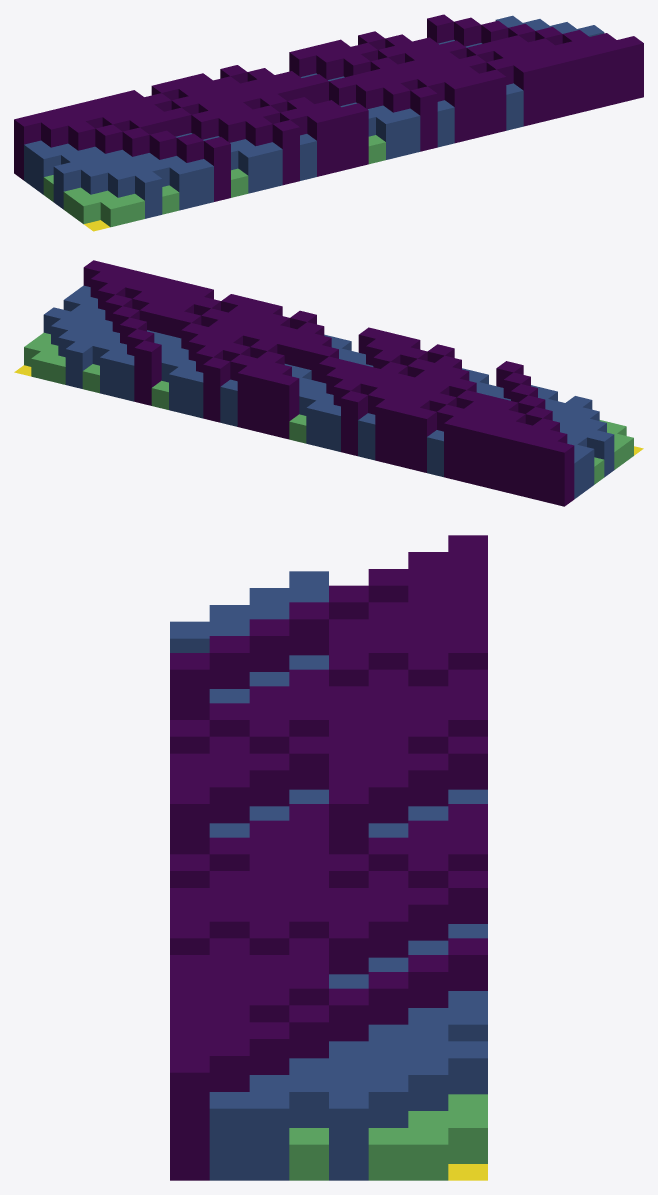
3 renders of one model, top to bottom at view 1: azimuth 30°, elevation 25°; view 2: azimuth 150°, elevation 25°; view 3: azimuth 270°, elevation 25°, orthographic. The views are drawn at different scales.
Visible parts, largest first — view 1: Object(20,8)[length_3], Object(12,8)[length_3], Object(14,8)[length_3], Object(22,8)[length_3], Object(26,8)[length_3], Object(8,8)[length_3], Object(15,8)[length_3], Object(24,8)[length_3], Object(29,8)[length_3], Object(27,8)[length_3], Object(31,8)[length_3], Object(32,8)[length_3] (+64 smaller); view 2: Object(1,1)[length_3], Object(25,1)[length_3], Object(17,1)[length_3], Object(9,1)[length_3], Object(21,1)[length_3], Object(13,1)[length_3], Object(10,1)[length_3], Object(6,1)[length_3], Object(11,1)[length_3], Object(5,1)[length_3], Object(7,1)[length_3], Object(2,1)[length_3] (+54 smaller); view 3: Object(32,8)[length_3], Object(32,6)[length_2], Object(32,7)[length_2], Object(32,4)[length_2], Object(16,4)[length_3], Object(16,8)[length_3], Object(8,8)[length_3], Object(15,7)[length_3], Object(14,2)[length_3], Object(15,3)[length_3], Object(23,3)[length_3], Object(14,6)[length_3] (+49 smaller).
Part boxes in pixels (x1,y1,x2,y2): Object(20,8)[length_3]: [410, 86, 437, 151]; Object(12,8)[length_3]: [272, 120, 299, 185]; Object(14,8)[length_3]: [307, 111, 334, 176]; Object(22,8)[length_3]: [444, 78, 471, 143]; Object(26,8)[length_3]: [513, 61, 540, 126]; Object(8,8)[length_3]: [204, 137, 230, 201]; Object(15,8)[length_3]: [324, 107, 351, 172]; Object(24,8)[length_3]: [479, 69, 506, 134]; Object(29,8)[length_3]: [565, 48, 592, 113]; Object(27,8)[length_3]: [531, 57, 557, 122]; Object(31,8)[length_3]: [600, 40, 626, 105]; Object(32,8)[length_3]: [617, 36, 643, 101]; Object(1,1)[length_3]: [547, 441, 574, 506]; Object(25,1)[length_3]: [134, 340, 161, 405]; Object(17,1)[length_3]: [272, 374, 299, 439]; Object(9,1)[length_3]: [409, 407, 436, 472]; Object(21,1)[length_3]: [203, 357, 230, 422]; Object(13,1)[length_3]: [341, 391, 367, 456]; Object(10,1)[length_3]: [392, 403, 418, 468]; Object(6,1)[length_3]: [461, 420, 487, 485]; Object(11,1)[length_3]: [375, 399, 401, 464]; Object(5,1)[length_3]: [478, 424, 504, 489]; Object(7,1)[length_3]: [444, 416, 470, 481]; Object(2,1)[length_3]: [530, 437, 556, 502]; Object(32,8)[length_3]: [170, 1056, 209, 1180]; Object(32,6)[length_2]: [249, 1092, 289, 1180]; Object(32,7)[length_2]: [209, 1092, 249, 1180]; Object(32,4)[length_2]: [329, 1092, 368, 1180]; Object(16,4)[length_3]: [329, 787, 368, 854]; Object(16,8)[length_3]: [170, 787, 209, 854]; Object(8,8)[length_3]: [170, 653, 209, 719]; Object(15,7)[length_3]: [209, 770, 249, 823]; Object(14,2)[length_3]: [408, 753, 448, 806]; Object(15,3)[length_3]: [368, 770, 408, 823]; Object(23,3)[length_3]: [368, 904, 408, 957]; Object(14,6)[length_3]: [249, 753, 289, 806].
Size of the model in its own units: 32 by 3 by 8.
